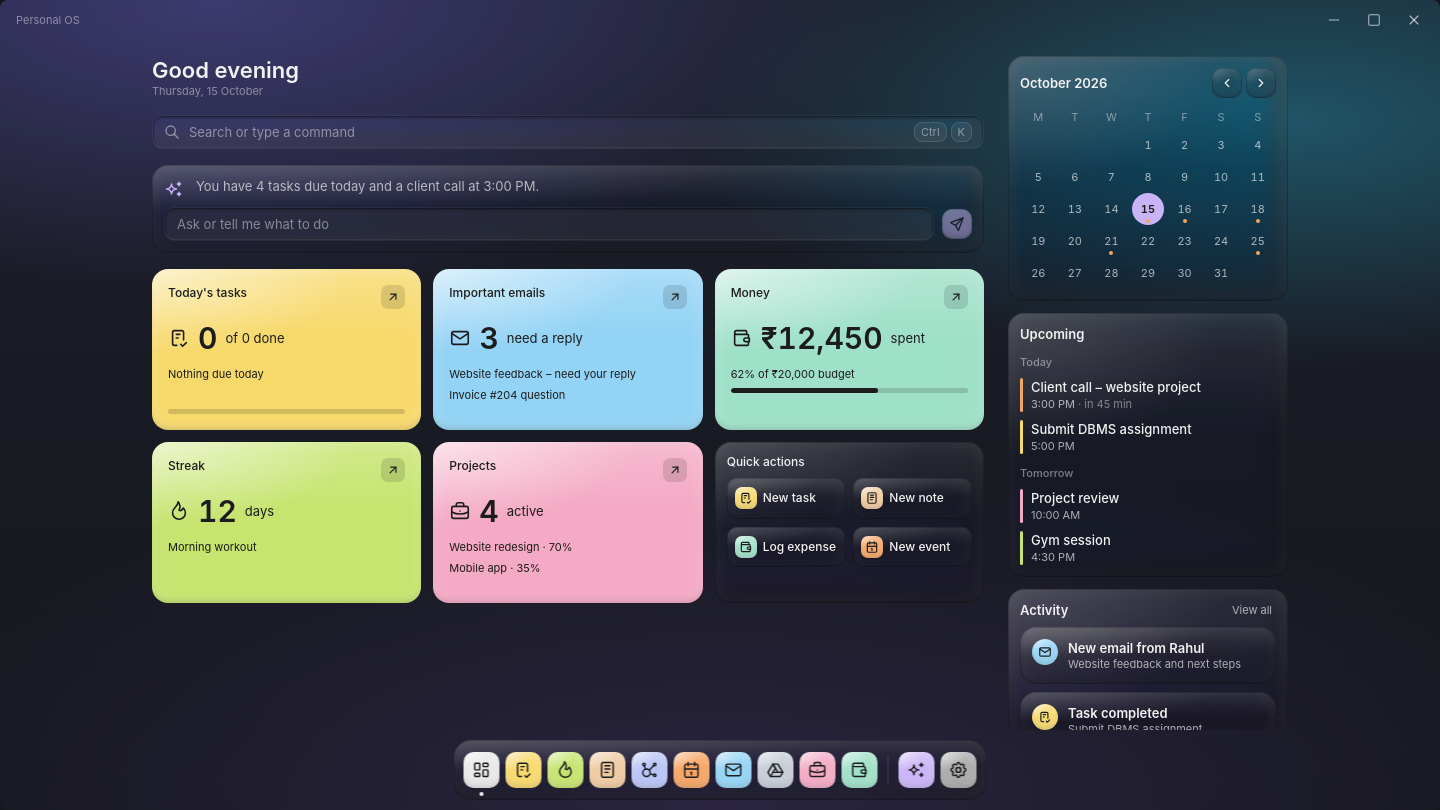
Test: searching data from the palette › opens a task with the arrow keys and Enter, and shows it as Recent next time
Type keys "{Control>}k{/Control}"
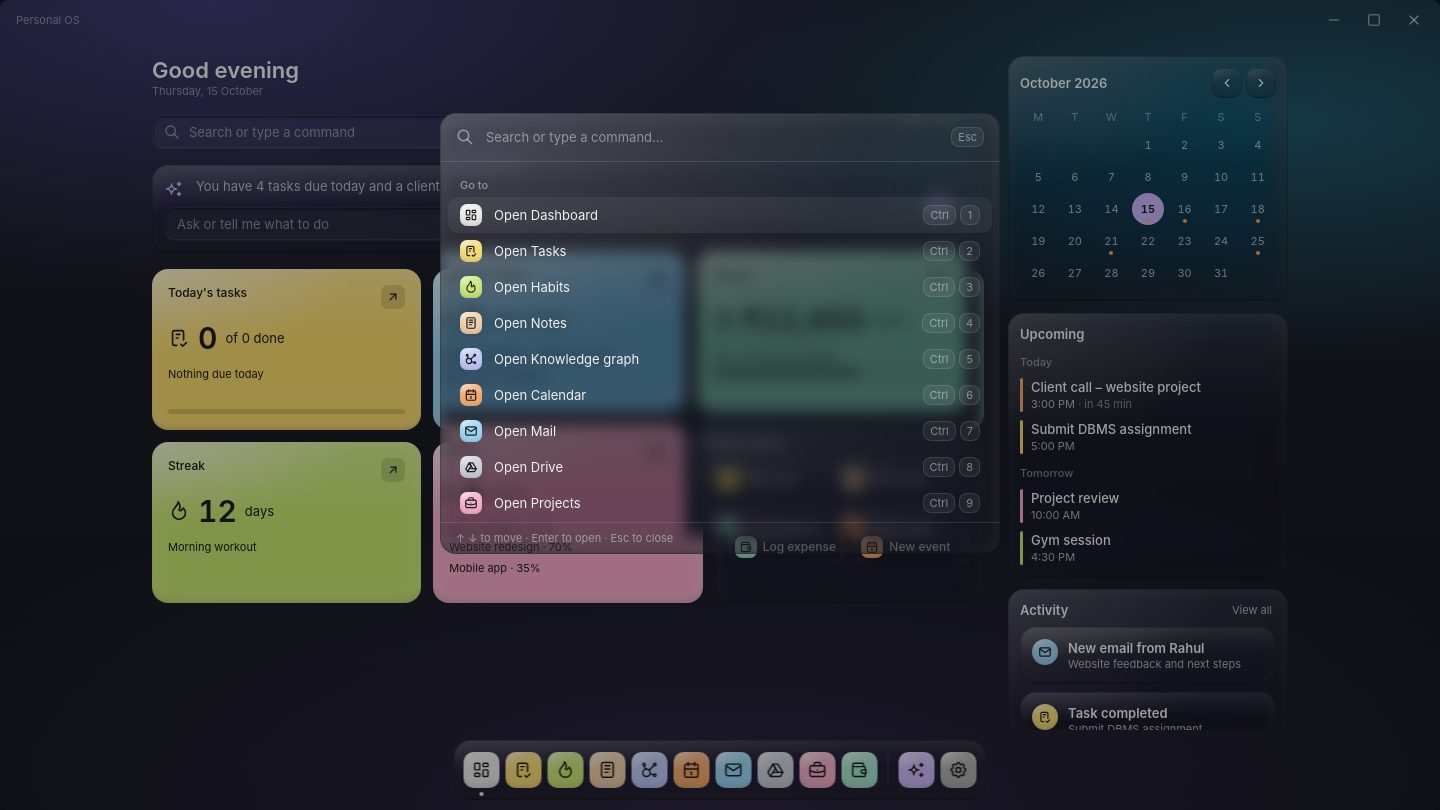
In the dropdown with placeholder "Search or type a command…": (713, 137) [486, 113, 939, 161], type "pay"
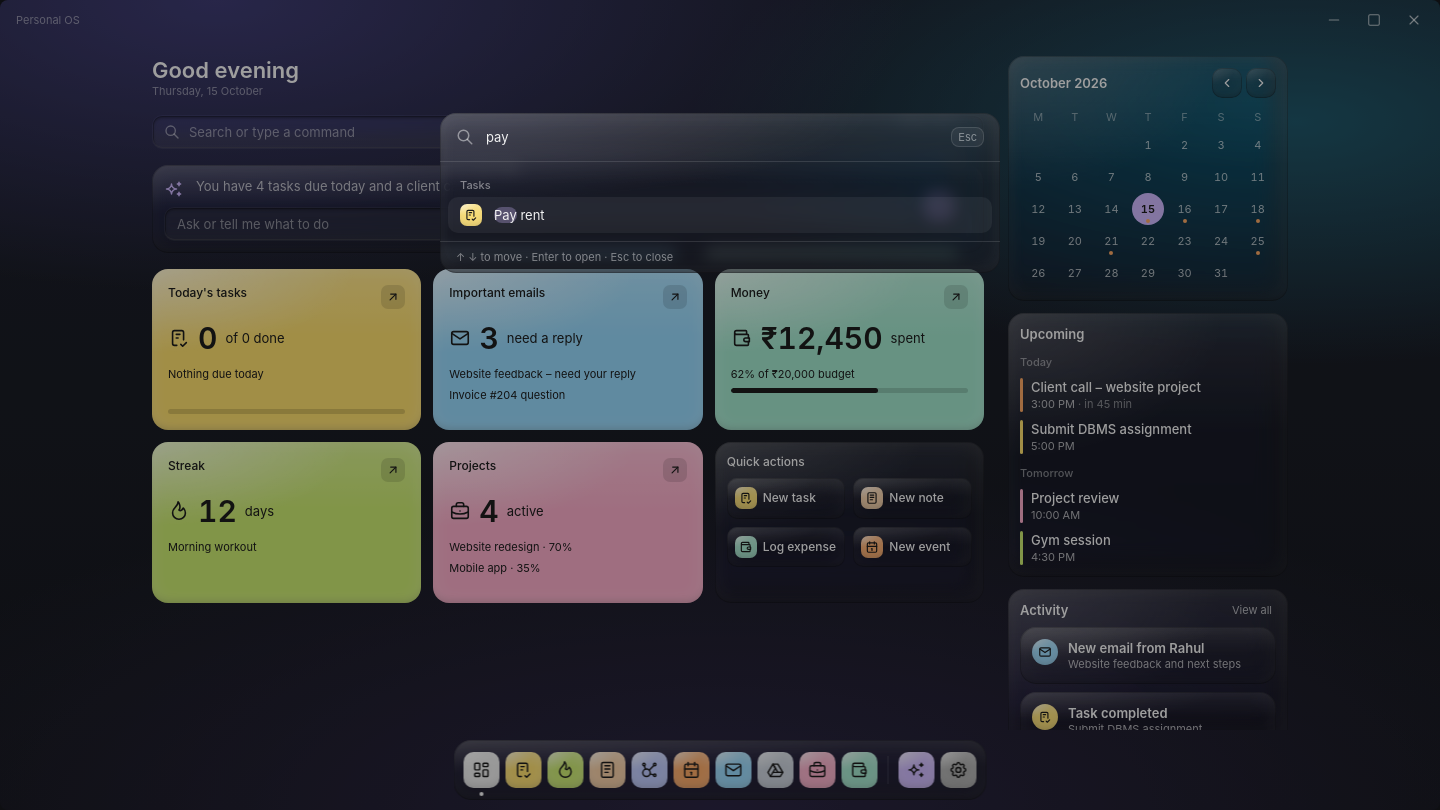
Press Enter
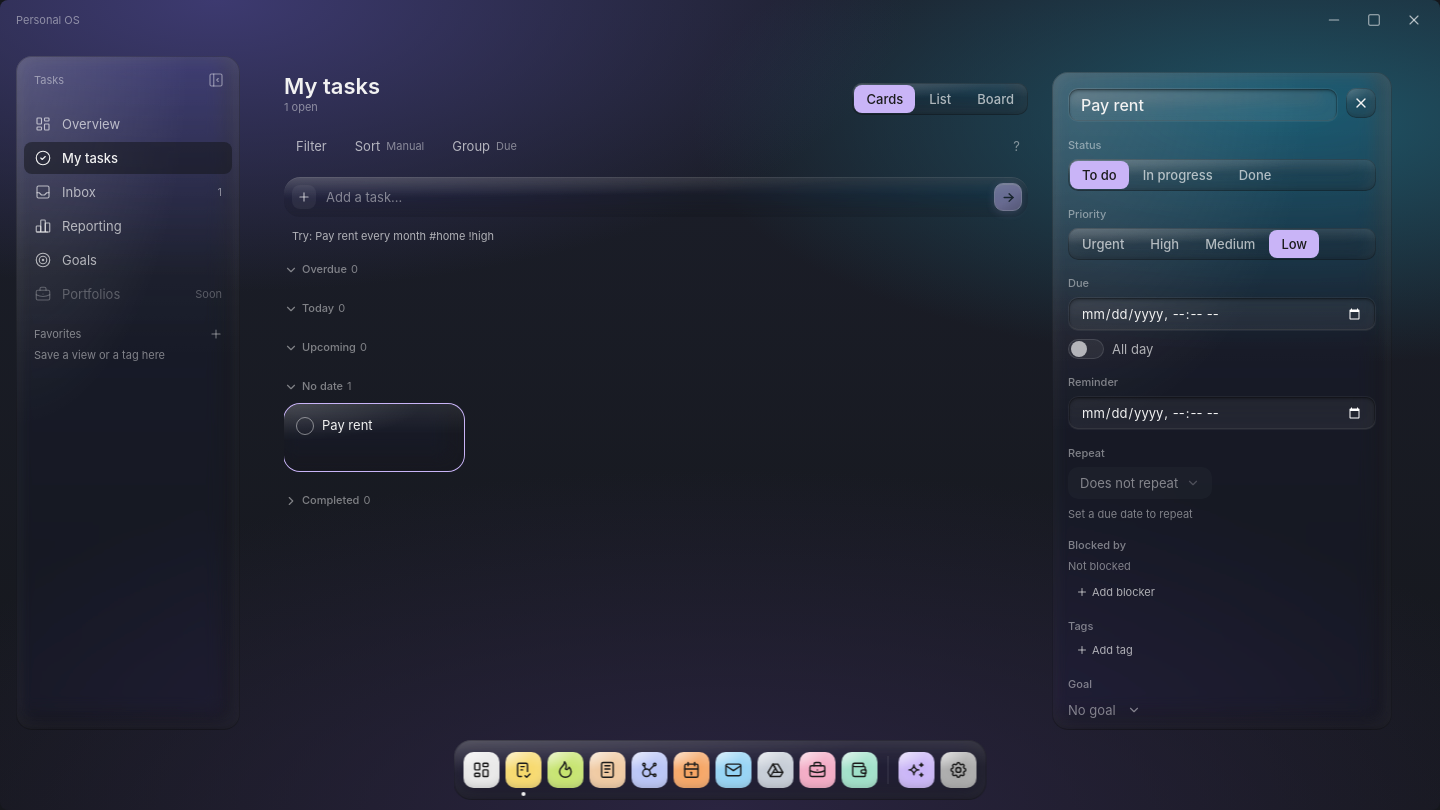
Expected: the dialog "Command palette" is not shown
Type keys "{Control>}k{/Control}"
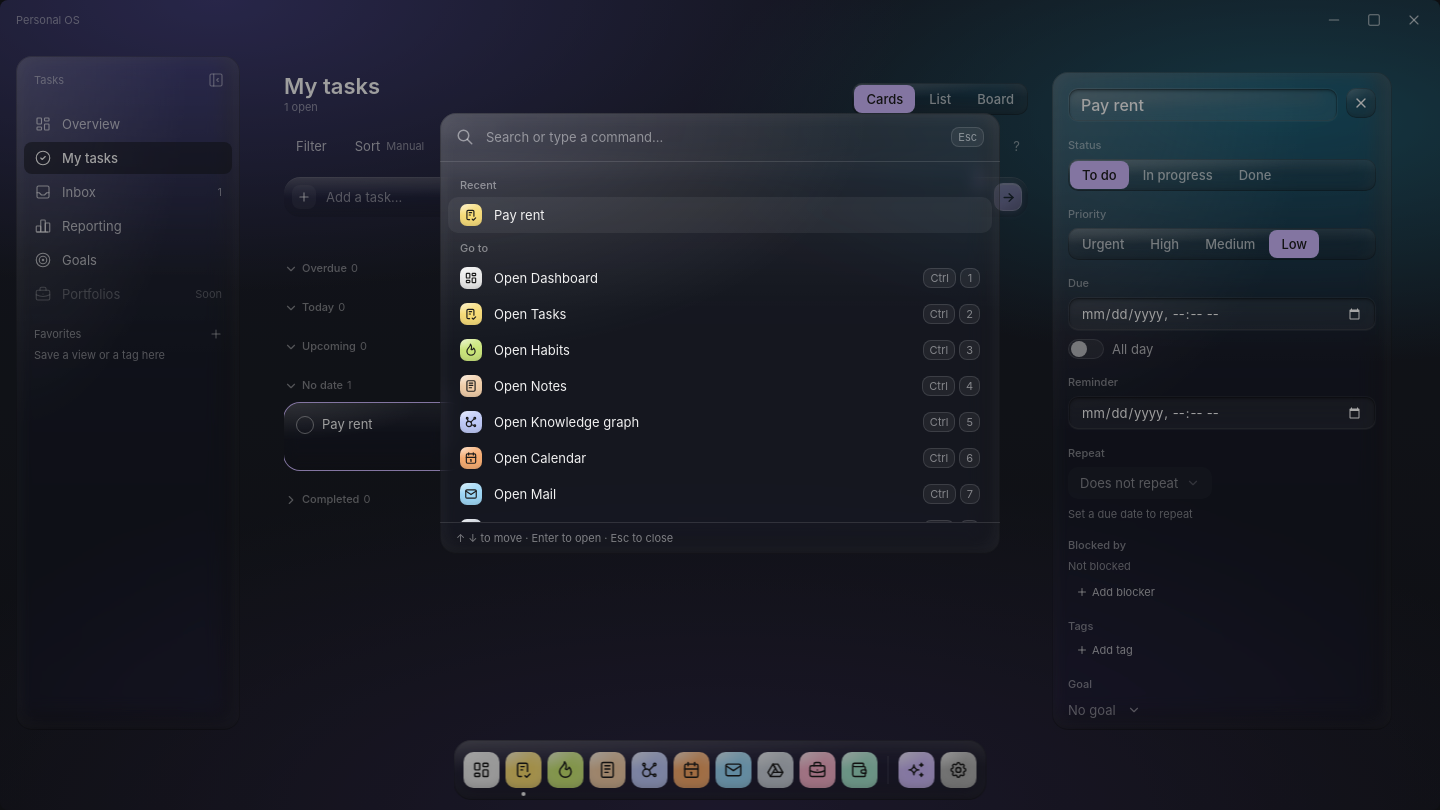
Expected: the 2nd text "Pay rent" is shown, [322, 416, 373, 432]
Expected: the text "Recent" is shown, [460, 178, 497, 192]
Expected: the option "Open Dashboard Ctrl 1" is shown, [448, 260, 992, 296]
